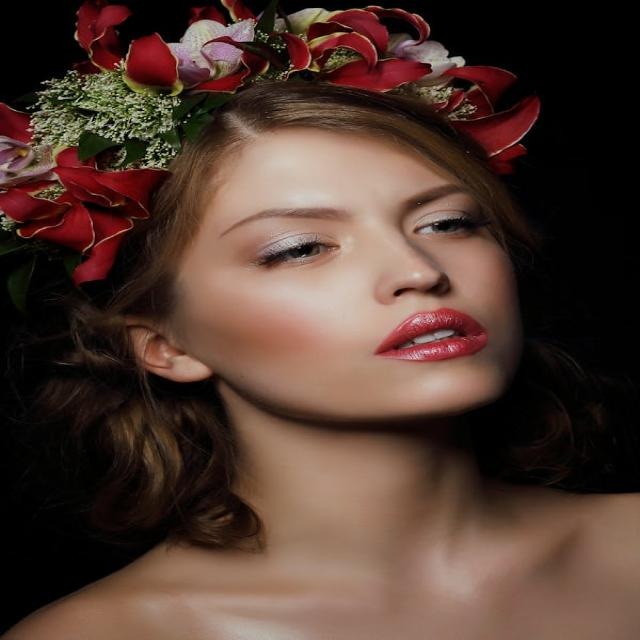no_mask: (75, 98, 569, 442)
